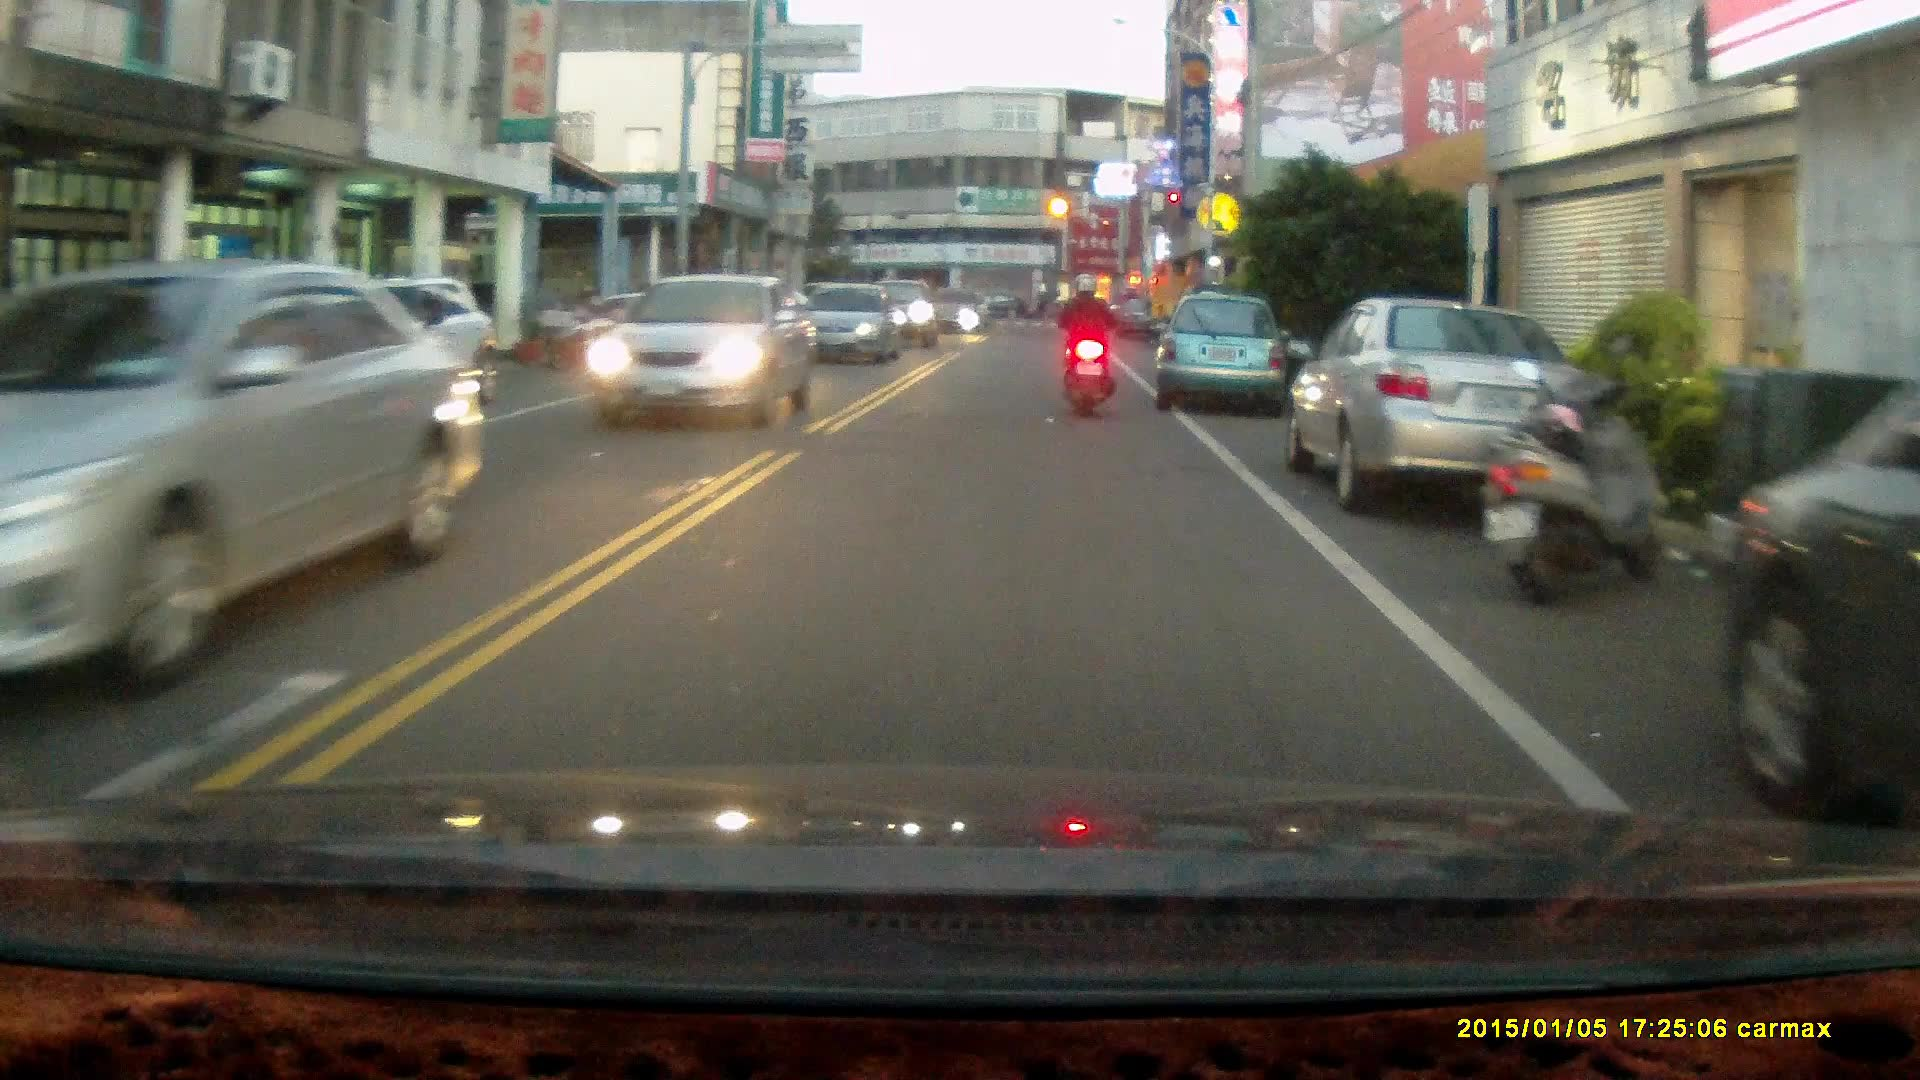rider: (1056, 270, 1117, 420)
vehicle: (2, 258, 486, 705), (1717, 386, 1920, 809), (1282, 295, 1592, 511), (233, 268, 501, 411), (588, 272, 819, 425), (1152, 291, 1292, 420), (794, 282, 907, 367)
